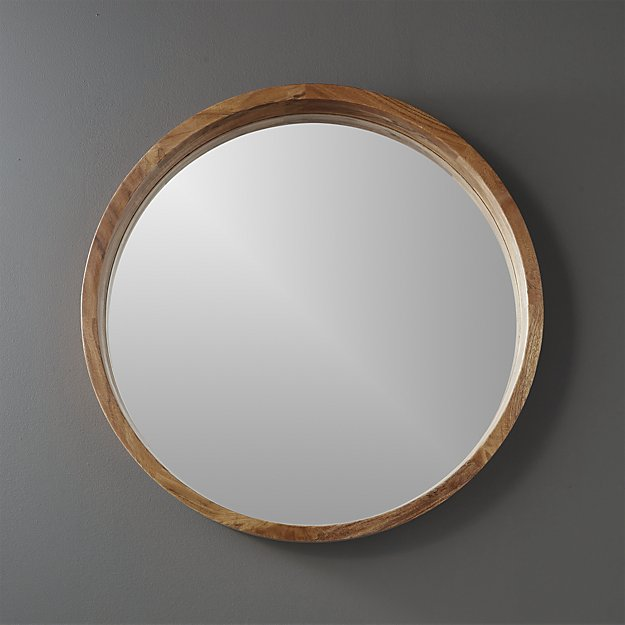Nonrec_Glass: (63, 66, 569, 559)
